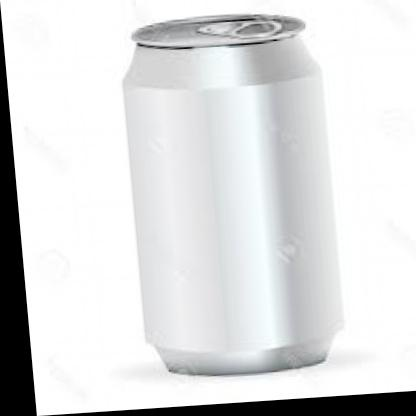trash: (124, 15, 341, 374)
